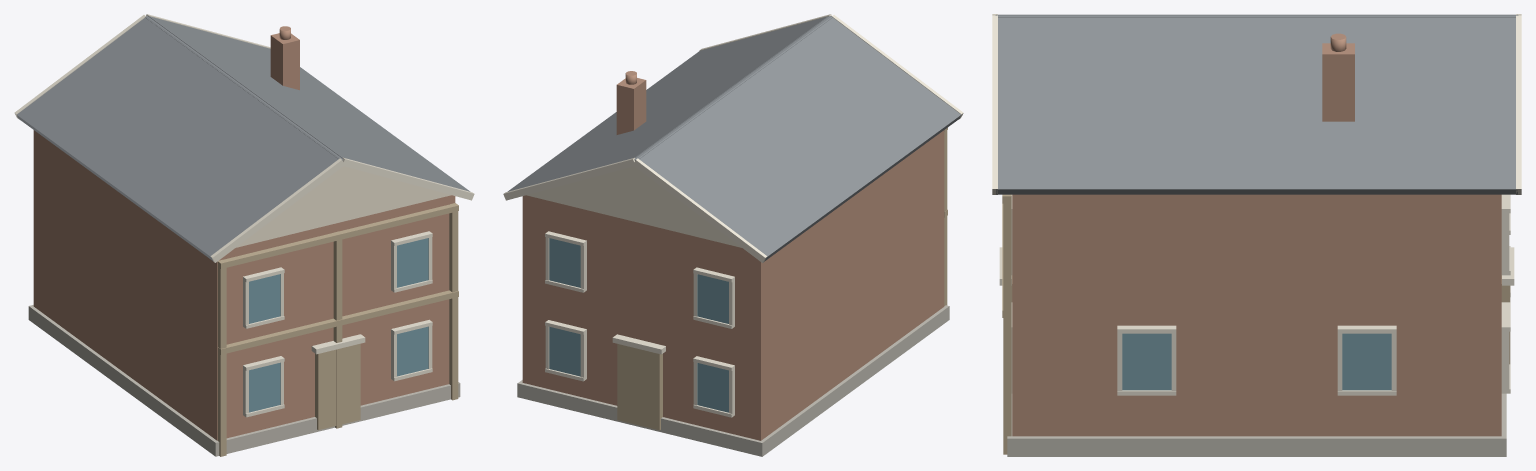
File: tyne-half-timber_lod1.glb
3 renders of one model, left to right at view 1: azimuth 30°, elevation 25°; view 2: azimuth 150°, elevation 25°; view 3: azimuth 270°, elevation 25°, orthographic. The views are drawn at different scales.
Visible parts, largest first — view 1: RF_Body, RF_Roof.001, RF_Roof, RF_Foundation, RF_Gable, RF_Door.001, RF_TimberBand, RF_TimberBand.001, RF_TimberPost.001, RF_TimberPost, RF_TimberPost.002, RF_Vergeband.001 (+9 smaller); view 2: RF_Body, RF_Roof.001, RF_Roof, RF_Foundation, RF_Gable.001, RF_Door, RF_Chimney, RF_Vergeband.002, RF_Window.008, RF_Window.005, RF_Window.006, RF_Window.007 (+5 smaller); view 3: RF_Body, RF_Roof, RF_Foundation, RF_Window.009, RF_Window, RF_Chimney, RF_TimberPost, RF_Ridge, RF_Vergeband.003, RF_Vergeband, RF_Roof.001, RF_WindowFrame.016 (+1 smaller).
Boxes of the visible parts, box(x1,y1,x2,y2) form: RF_Body: box(33, 130, 455, 440); RF_Roof.001: box(17, 16, 339, 261); RF_Roof: box(148, 16, 470, 191); RF_Foundation: box(28, 305, 460, 456); RF_Gable: box(236, 166, 451, 247); RF_Door.001: box(315, 343, 360, 430); RF_TimberBand: box(217, 203, 458, 268); RF_TimberBand.001: box(217, 290, 458, 354); RF_TimberPost.001: box(217, 259, 226, 456); RF_TimberPost: box(449, 203, 458, 400); RF_TimberPost.002: box(333, 231, 342, 428); RF_Vergeband.001: box(210, 158, 344, 262); RF_Body: box(522, 130, 944, 440); RF_Roof.001: box(638, 17, 960, 261); RF_Roof: box(507, 16, 829, 191); RF_Foundation: box(517, 305, 949, 456); RF_Gable.001: box(527, 166, 741, 247); RF_Door: box(617, 344, 662, 430); RF_Chimney: box(616, 78, 646, 134); RF_Vergeband.002: box(633, 158, 767, 262); RF_Window.008: box(549, 238, 580, 287); RF_Window.005: box(697, 363, 728, 412); RF_Window.006: box(697, 274, 728, 323); RF_Window.007: box(549, 326, 580, 376); RF_Body: box(1012, 194, 1501, 436); RF_Roof: box(996, 16, 1517, 194); RF_Foundation: box(1007, 393, 1506, 456); RF_Window.009: box(1122, 333, 1171, 390); RF_Window: box(1342, 333, 1391, 390); RF_Chimney: box(1322, 43, 1354, 121); RF_TimberPost: box(1003, 194, 1011, 454); RF_Ridge: box(995, 15, 1518, 17); RF_Vergeband.003: box(992, 15, 997, 194); RF_Vergeband: box(1516, 15, 1521, 194); RF_Roof.001: box(996, 14, 1517, 15); RF_WindowFrame.016: box(1501, 207, 1509, 275).
Size of the model in its own units: 9.91 by 10.47 by 12.98.
